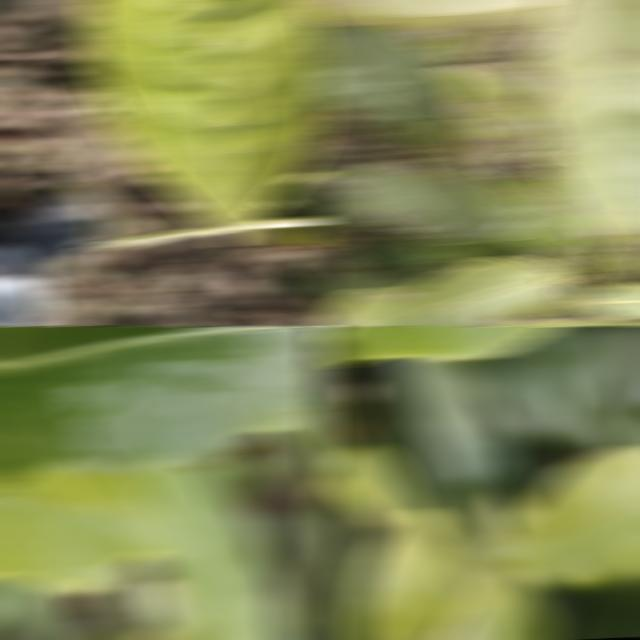Leaf: (83, 0, 328, 245), (0, 326, 328, 483), (135, 467, 294, 640), (526, 0, 640, 238), (0, 467, 191, 594), (391, 358, 518, 528), (501, 445, 640, 589), (477, 326, 637, 450), (322, 256, 570, 326), (312, 15, 466, 121), (349, 508, 470, 640), (329, 161, 520, 244), (450, 67, 550, 202), (487, 180, 599, 263), (312, 0, 557, 35), (435, 568, 554, 640), (326, 443, 421, 528), (407, 118, 473, 167), (312, 260, 350, 316), (251, 226, 328, 250), (615, 228, 640, 279)
